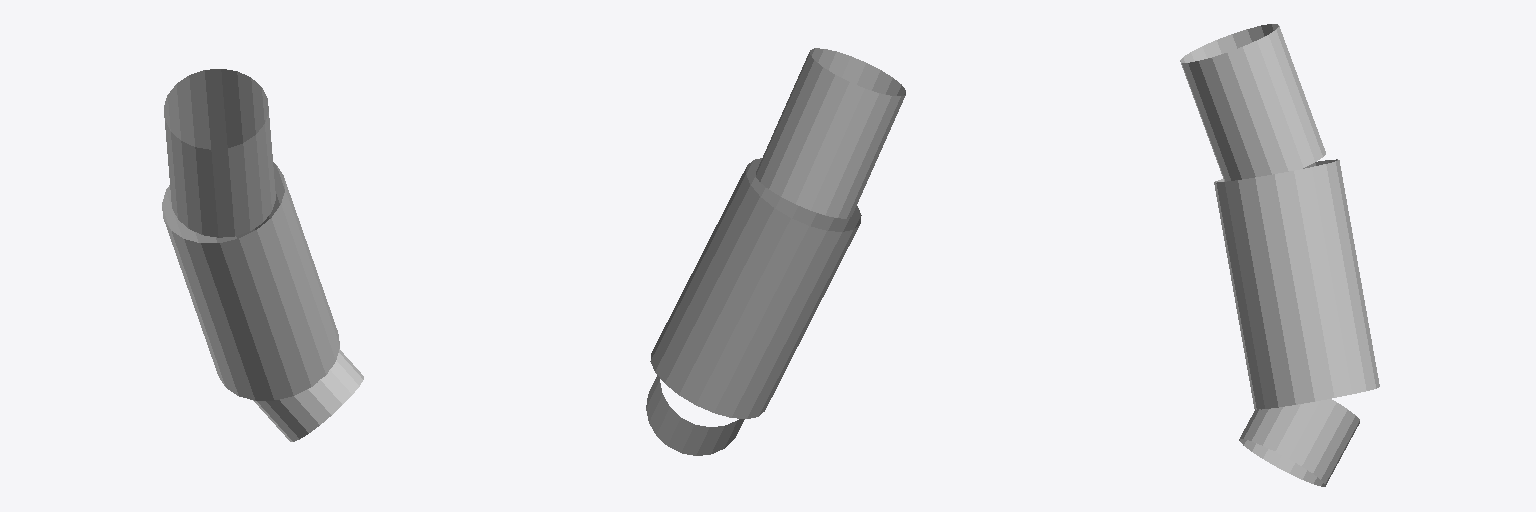
Rendered from tree_0023.obj.
3 renders of one model, left to right at view 1: azimuth 30°, elevation 25°; view 2: azimuth 150°, elevation 25°; view 3: azimuth 270°, elevation 25°, orthographic.
Visible parts, largest first — view 1: groupWood; view 2: groupWood; view 3: groupWood.
Boxes of the visible parts, box(x1,y1,x2,y2) form: groupWood: box(162, 69, 363, 441); groupWood: box(646, 48, 905, 455); groupWood: box(1180, 24, 1379, 486).
Bounding box in the file's own units: 0.5261 × 0.9285 × 0.4177.